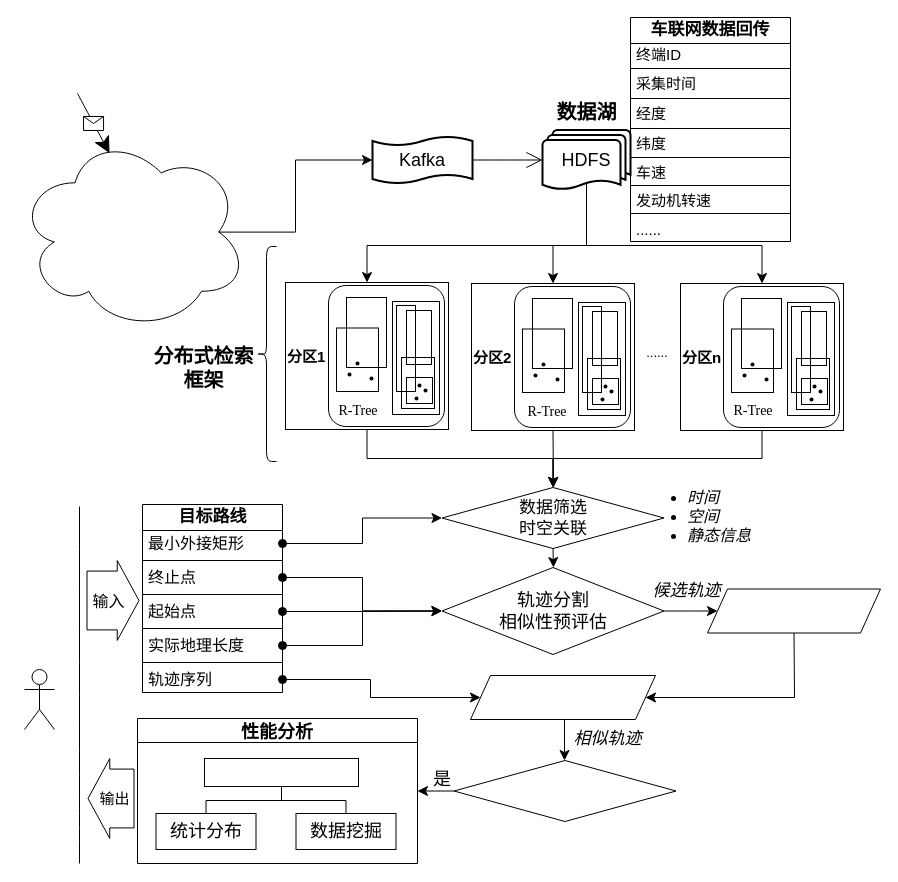
Image size: 898x882. Some labels were removed from this diagram. The shapes that lost their labels are listed below. From the top down, each one's centre as x and y in pixels, then its label:
At (x=132, y=231): "IOT".
At (x=793, y=610): "轨迹滤波与增强".
At (x=39, y=699): "用户".
At (x=563, y=697): "相似性度量计算".
At (x=281, y=772): "多维动态数据整合".
At (x=564, y=791): "相似度≤ε".
